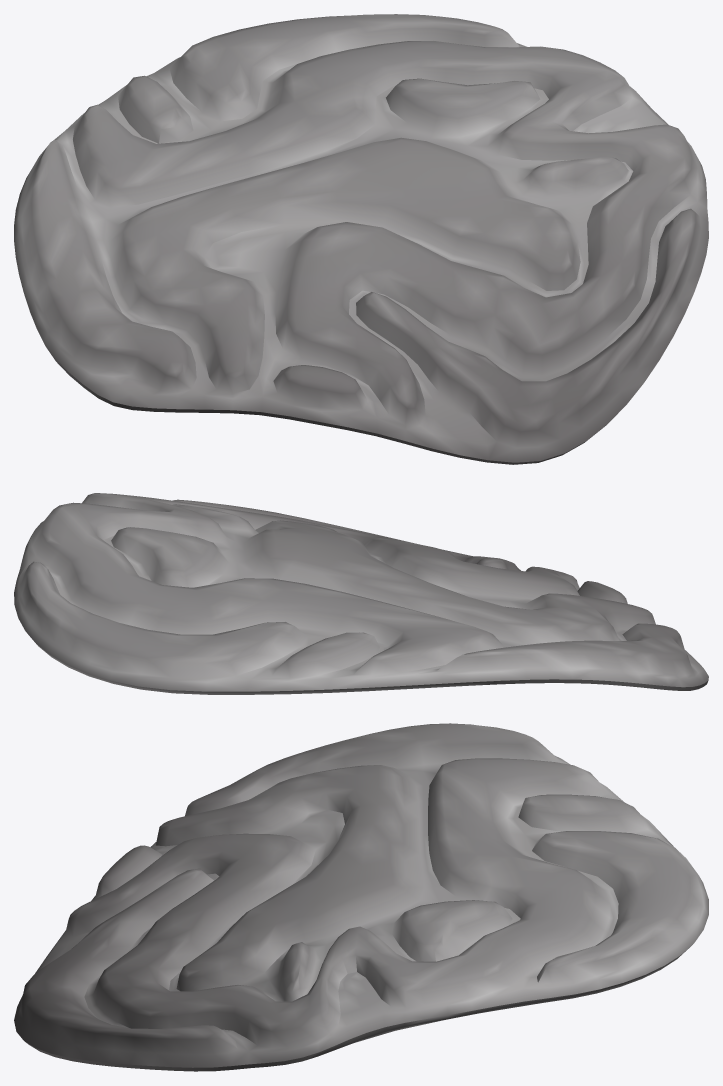
File: colpophyllia-natans.glb
The picture shows the model from 3 angles, top to bottom: view 1: azimuth 30°, elevation 25°; view 2: azimuth 150°, elevation 25°; view 3: azimuth 270°, elevation 25°; orthographic projection. The views are drawn at different scales.
Parts seen in each view (by area): view 1: colpophyllia-natans; view 2: colpophyllia-natans; view 3: colpophyllia-natans.
Part boxes in pixels (x1=…): colpophyllia-natans: x1=14, y1=14, x2=708, y2=464; colpophyllia-natans: x1=14, y1=493, x2=708, y2=694; colpophyllia-natans: x1=14, y1=723, x2=708, y2=1071.
Size of the model in its own units: 0.4295 by 0.1148 by 0.4043.
Materials: 1 (1 with a texture image).
